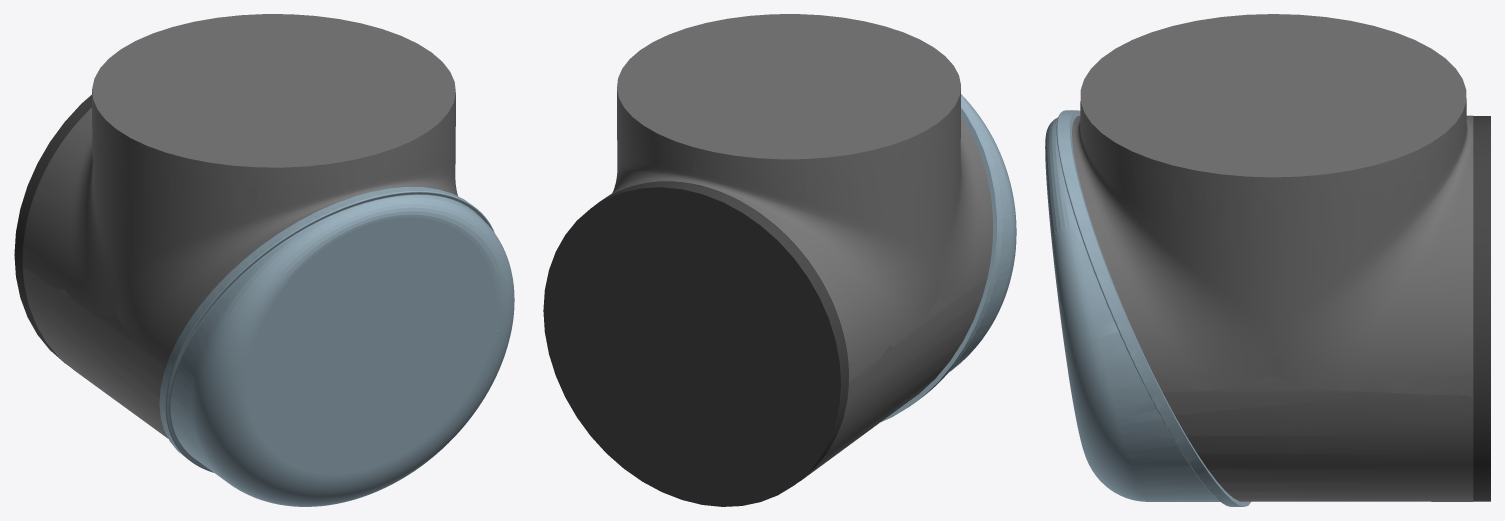
Rendered from shoulder.gltf.
The picture shows the model from 3 angles, left to right: view 1: azimuth 30°, elevation 25°; view 2: azimuth 150°, elevation 25°; view 3: azimuth 270°, elevation 25°; orthographic projection. The views are drawn at different scales.
Visible parts, largest first — view 1: Actor0 (37), Actor1; view 2: Actor0 (37), Actor1; view 3: Actor0 (37), Actor1.
Part boxes in pixels (<box>): Actor0 (37): <box>14,14,457,438</box>; Actor1: <box>159,187,514,506</box>; Actor0 (37): <box>543,14,992,506</box>; Actor1: <box>881,94,1016,421</box>; Actor0 (37): <box>1072,14,1490,501</box>; Actor1: <box>1045,110,1250,506</box>.
Bounding box in the file's own units: 0.119 × 0.13 × 0.1337.
